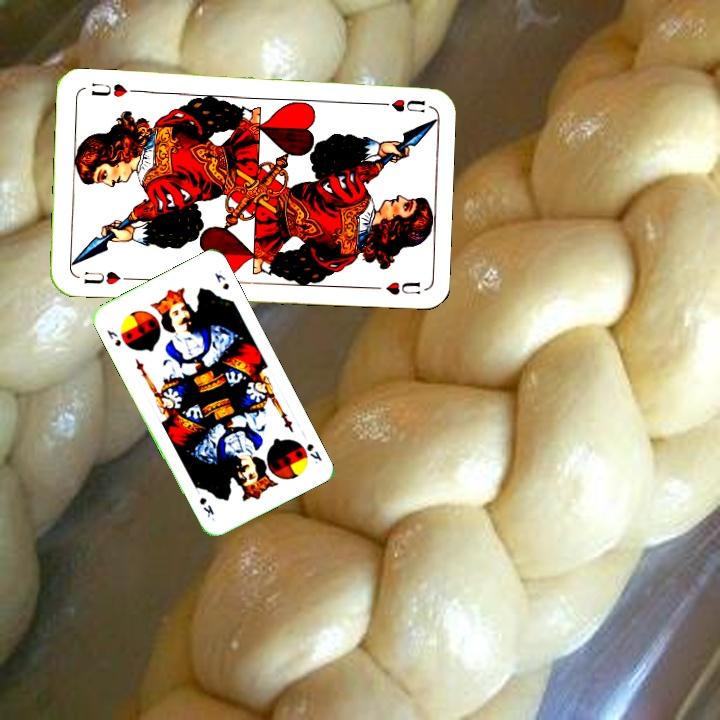HU: (371, 95, 428, 115), (80, 267, 133, 287)
SK: (302, 439, 325, 466), (103, 326, 124, 349)
